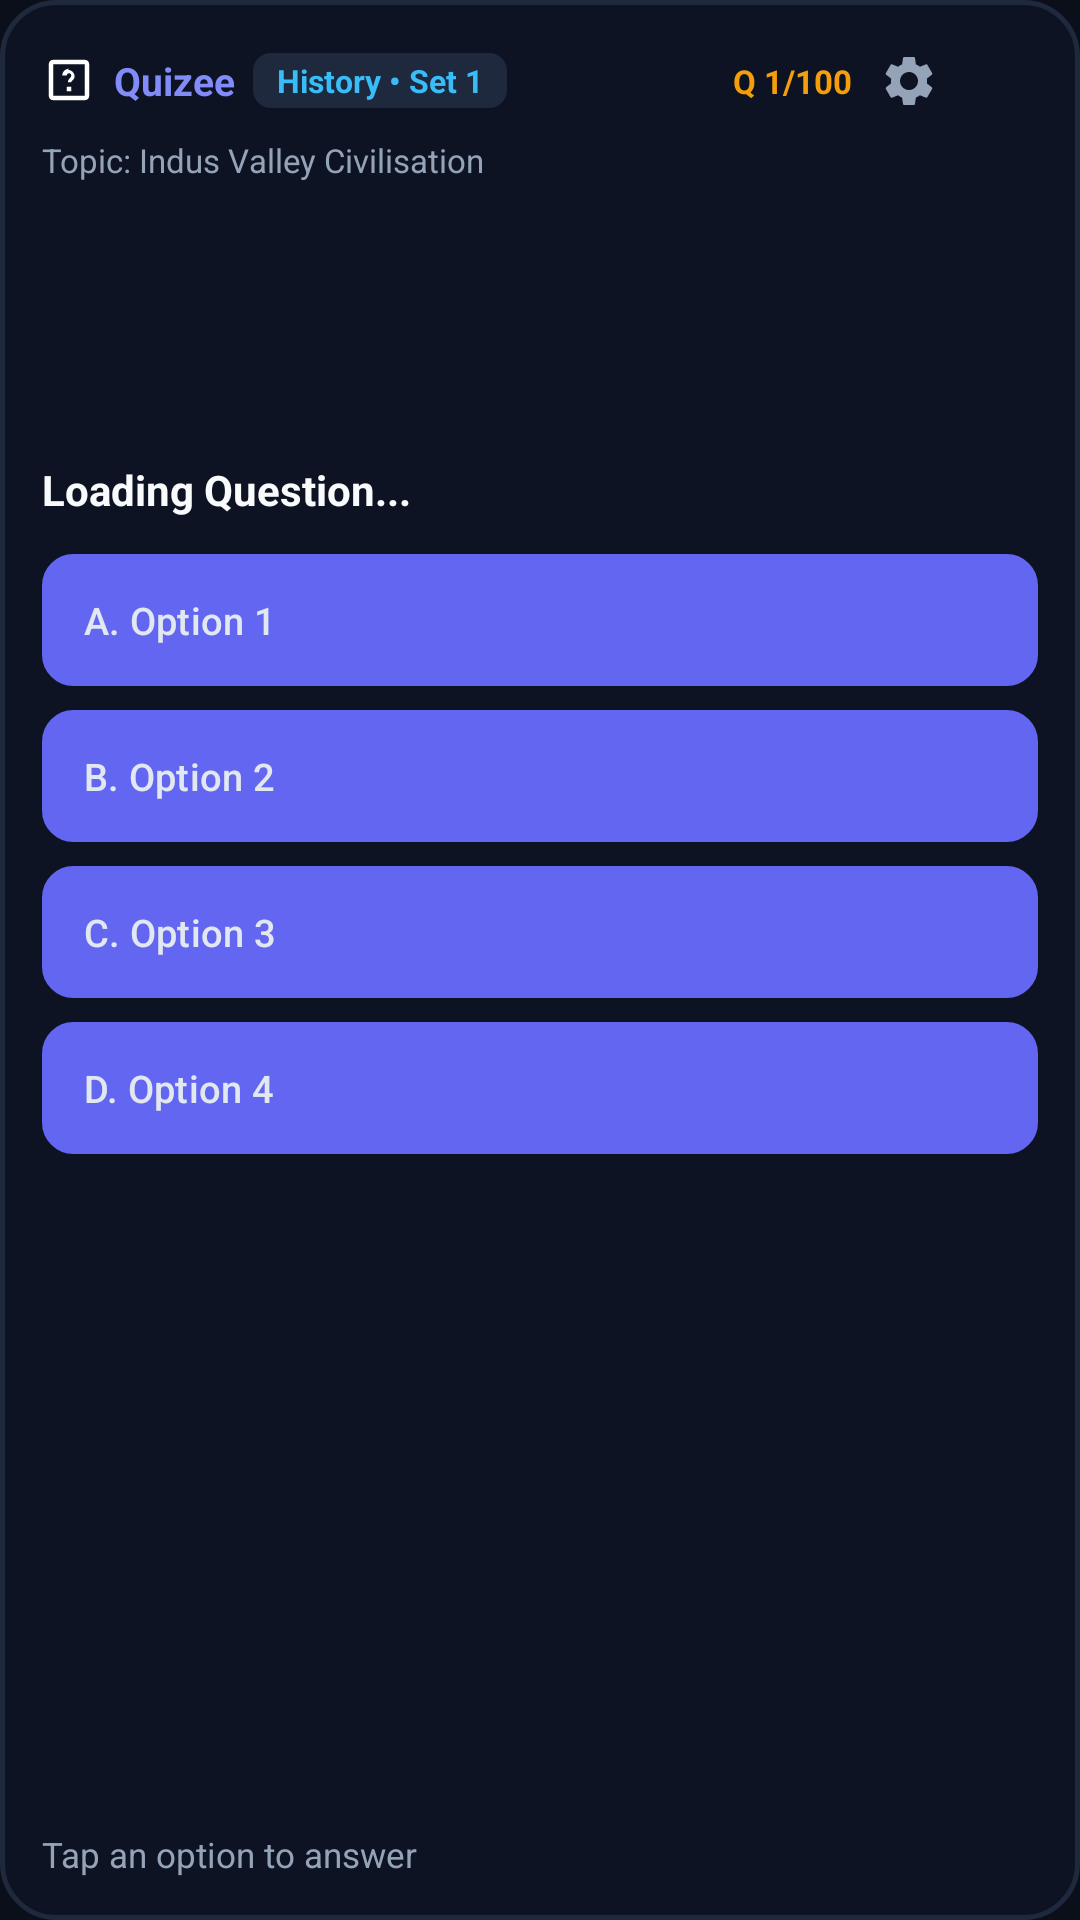

Where to tap for icons on this 1080 x 1920 app screen, as (x=x, y=y):
Change Topic or Set: (x=909, y=81)
